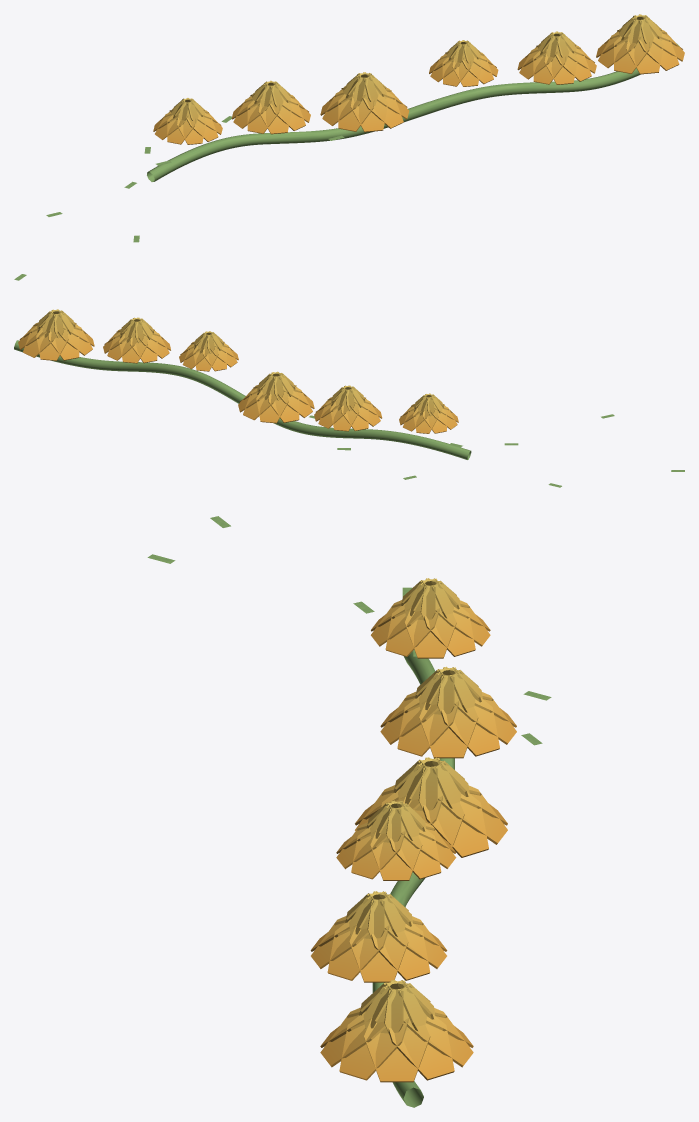
Rendered from garland.glb.
The picture shows the model from 3 angles, top to bottom: view 1: azimuth 30°, elevation 25°; view 2: azimuth 150°, elevation 25°; view 3: azimuth 270°, elevation 25°; orthographic projection. The views are drawn at different scales.
Parts seen in each view (by area): view 1: Blooms, VineAll; view 2: Blooms, VineAll; view 3: Blooms, VineAll.
Boxes of the visible parts, x1,y1,x2,y2 form: Blooms: (153, 14, 684, 144); VineAll: (14, 43, 679, 280); Blooms: (18, 309, 458, 433); VineAll: (14, 340, 684, 487); Blooms: (310, 578, 516, 1082); VineAll: (147, 516, 551, 1107).
Bounding box in the file's own units: 0.822 × 0.0846 × 0.2318.
2 materials, 1 textured.
